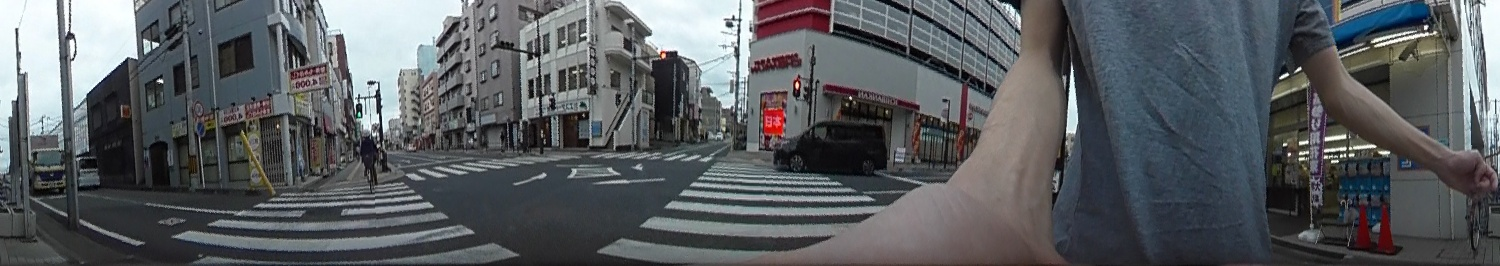person: (358, 129, 378, 185)
